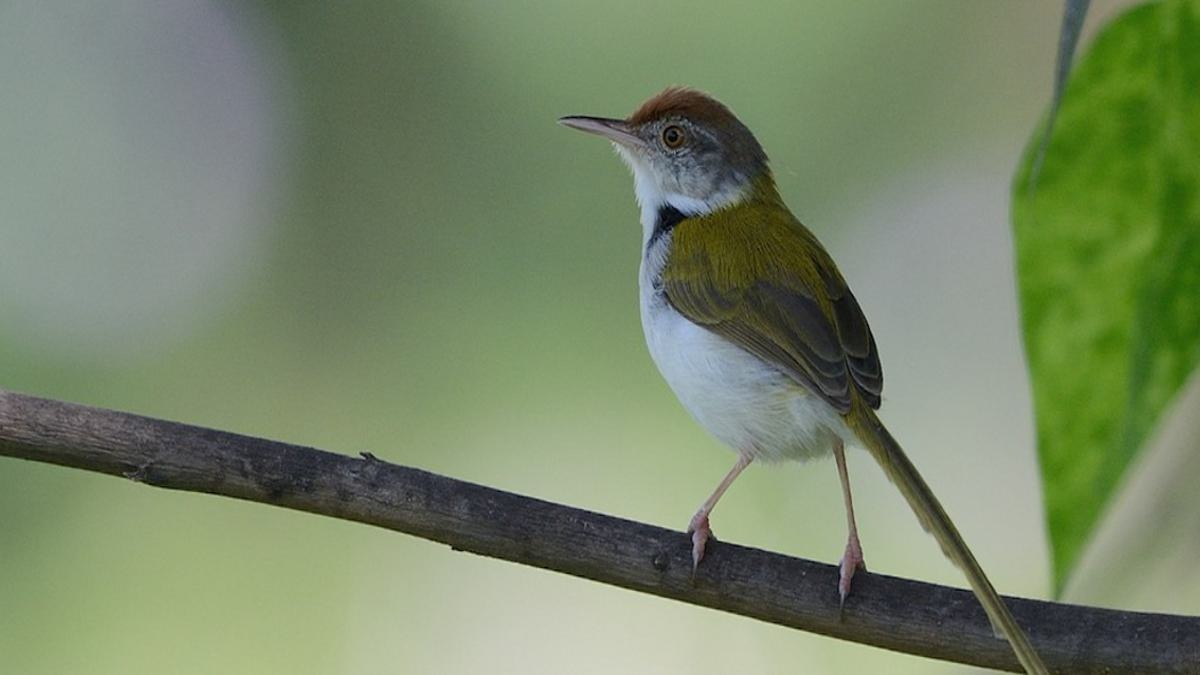tailorbird: (553, 40, 1039, 669)
